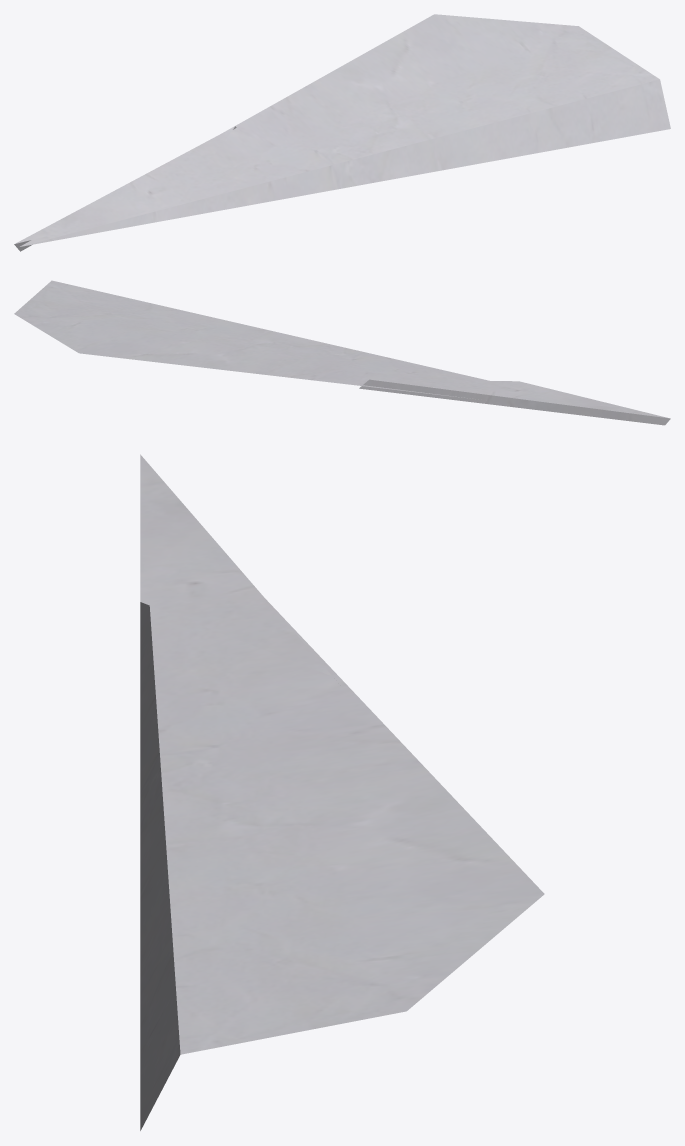
The picture shows the model from 3 angles, top to bottom: view 1: azimuth 30°, elevation 25°; view 2: azimuth 150°, elevation 25°; view 3: azimuth 270°, elevation 25°; orthographic projection. The views are drawn at different scales.
Parts seen in each view (by area): view 1: Plane.001; view 2: Plane.001; view 3: Plane.001.
Boxes of the visible parts, x1=… form: Plane.001: x1=14, y1=14, x2=670, y2=251; Plane.001: x1=14, y1=280, x2=670, y2=425; Plane.001: x1=140, y1=454, x2=544, y2=1130.
Size of the model in its own units: 2.02 by 0.1935 by 0.5798.
1 material, 1 textured.
